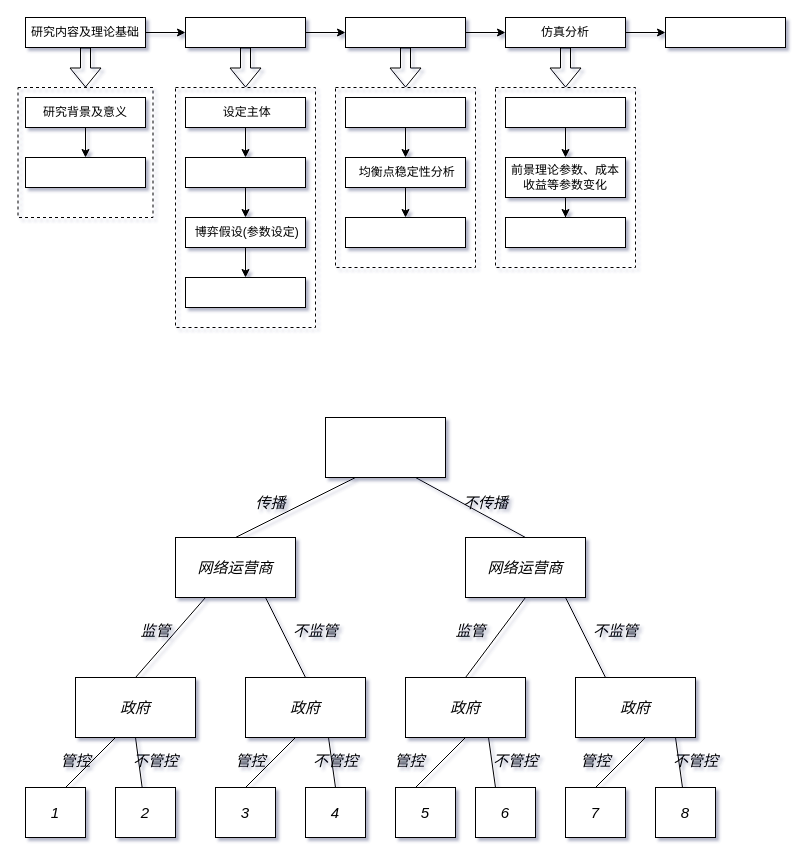
Some shapes in this 809 by 861 pixel diagram are drawn without their labels. The shapes that lost their labels are listed below. From the top down, each one's box as (x1, y1, x2, y2) in pixels, then its label:
(184, 16, 306, 48): 模型假设与构建
(344, 16, 466, 48): 模型分析
(664, 16, 786, 48): 总结与展望
(344, 96, 466, 128): 复制动态方程
(504, 96, 626, 128): 主体初始值变化
(24, 156, 146, 188): 理论基础与文献综述
(184, 156, 306, 188): 主体之间的逻辑
(344, 216, 466, 248): 雅可比矩阵
(504, 216, 626, 248): 图象显示
(184, 276, 306, 308): 构建博弈矩阵
(324, 416, 446, 478): 网民
